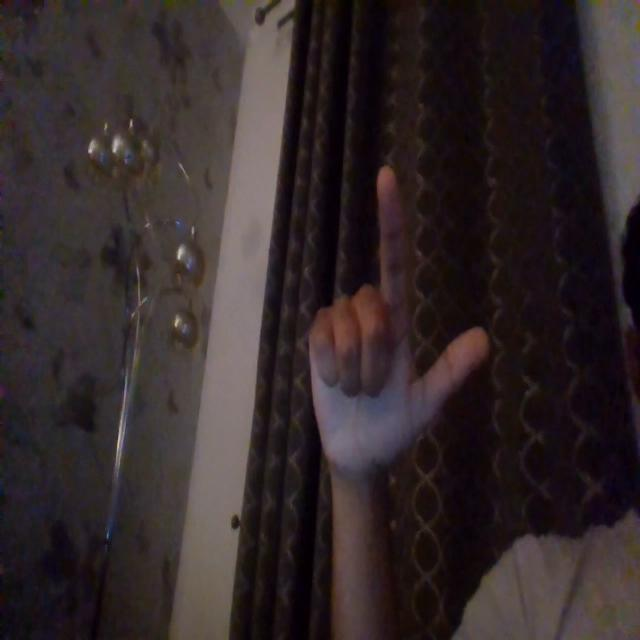hand thumb and index out: (306, 165, 492, 466)
